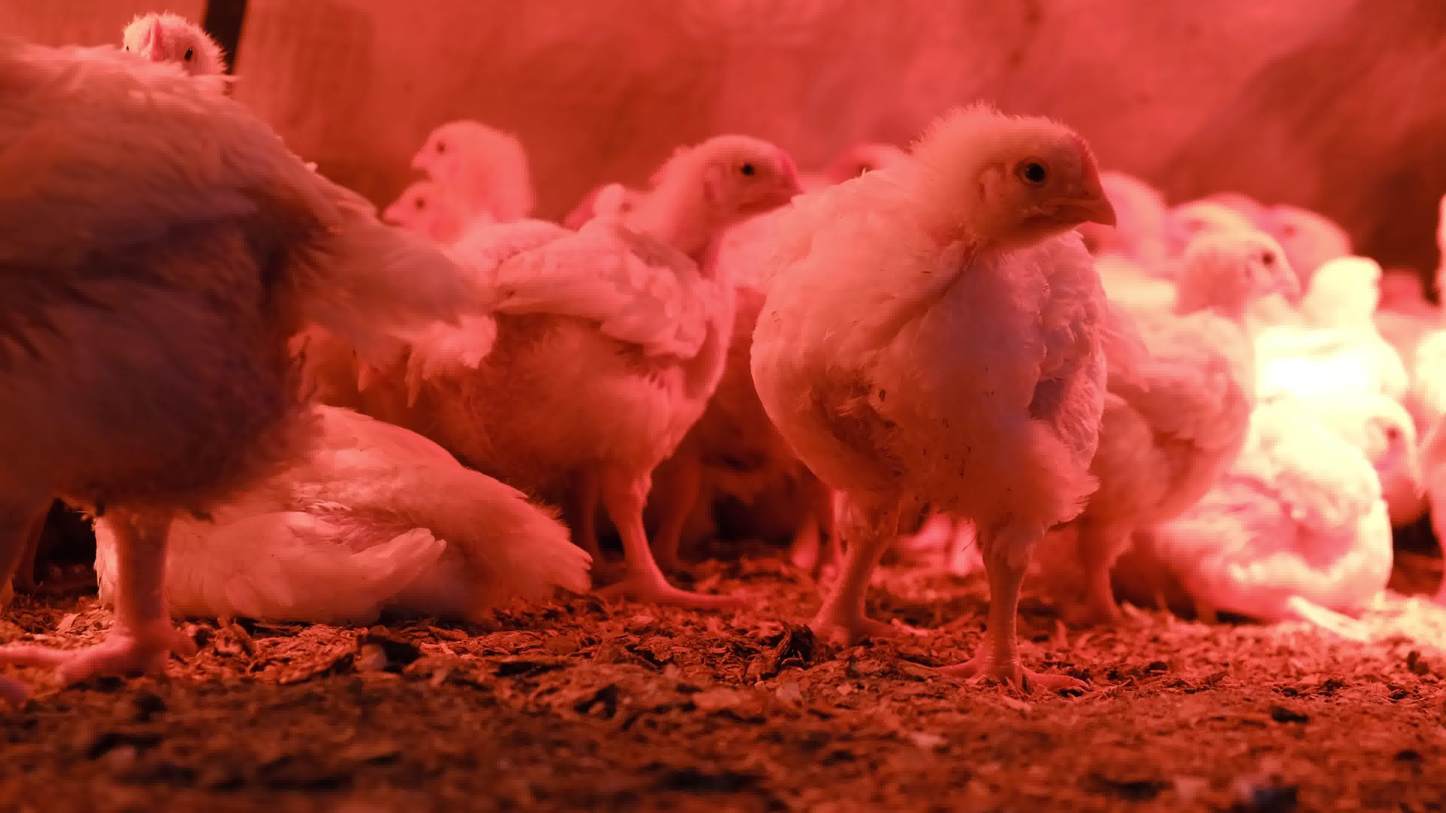AbNormal: (34, 361, 616, 647), (1214, 352, 1440, 704)
Normal: (710, 102, 1192, 713), (0, 4, 348, 700), (377, 117, 834, 600), (1109, 211, 1312, 630), (328, 68, 595, 250), (1260, 233, 1446, 489)
